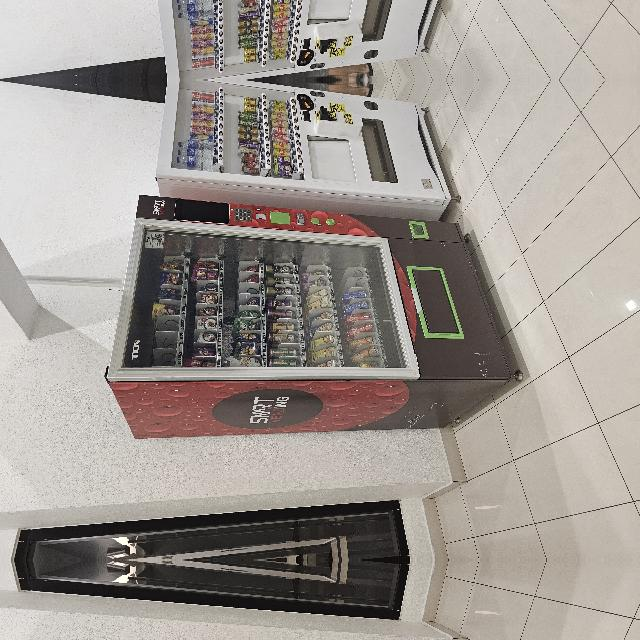obstacle: (119, 183, 367, 605), (339, 234, 479, 542), (119, 515, 367, 640), (339, 578, 479, 640), (316, 487, 342, 547), (316, 573, 342, 633), (193, 430, 214, 462)
